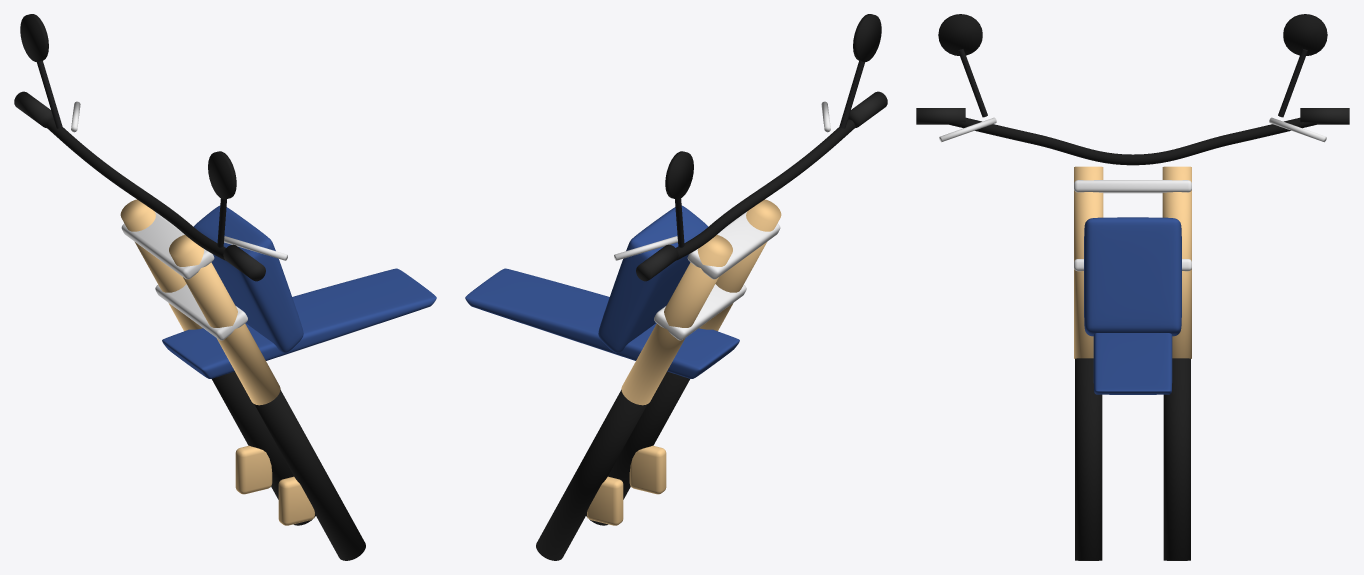
File: ENDURO450_Sterzo.glb
The picture shows the model from 3 angles, left to right: view 1: azimuth 30°, elevation 25°; view 2: azimuth 150°, elevation 25°; view 3: azimuth 270°, elevation 25°; orthographic projection. The views are drawn at different scales.
Parts seen in each view (by area): view 1: ENDURO450_Sterzo; view 2: ENDURO450_Sterzo; view 3: ENDURO450_Sterzo.
Boxes of the visible parts, x1=… form: ENDURO450_Sterzo: x1=14, y1=14, x2=436, y2=560; ENDURO450_Sterzo: x1=465, y1=14, x2=887, y2=560; ENDURO450_Sterzo: x1=916, y1=14, x2=1349, y2=560.
Bounding box in the file's own units: 0.6286 × 1.03 × 0.88.
